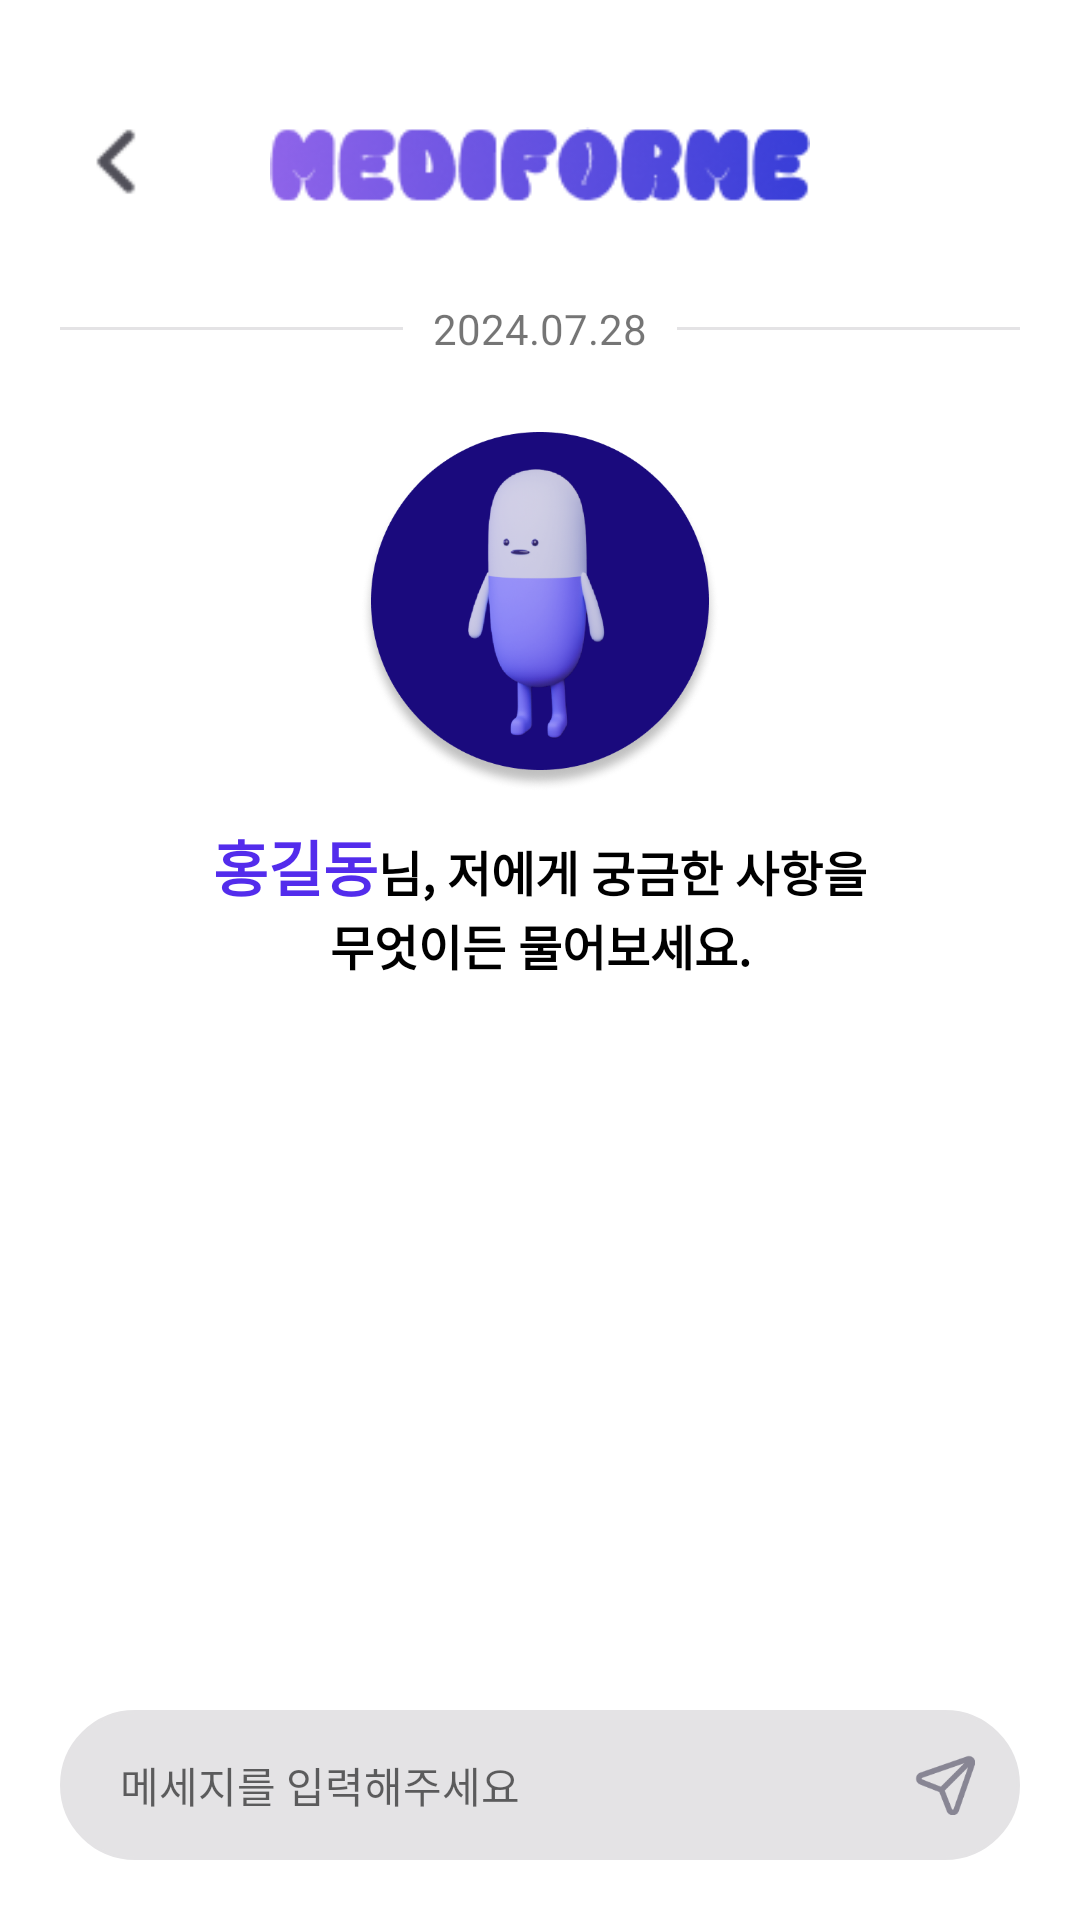

Screen size 1080px×1920px. Icon name, then its box in pixels as box=[x1, y1, x2, y2]:
back: box=[96, 129, 135, 194]
profile: box=[370, 432, 711, 782]
send: box=[916, 1756, 975, 1815]
